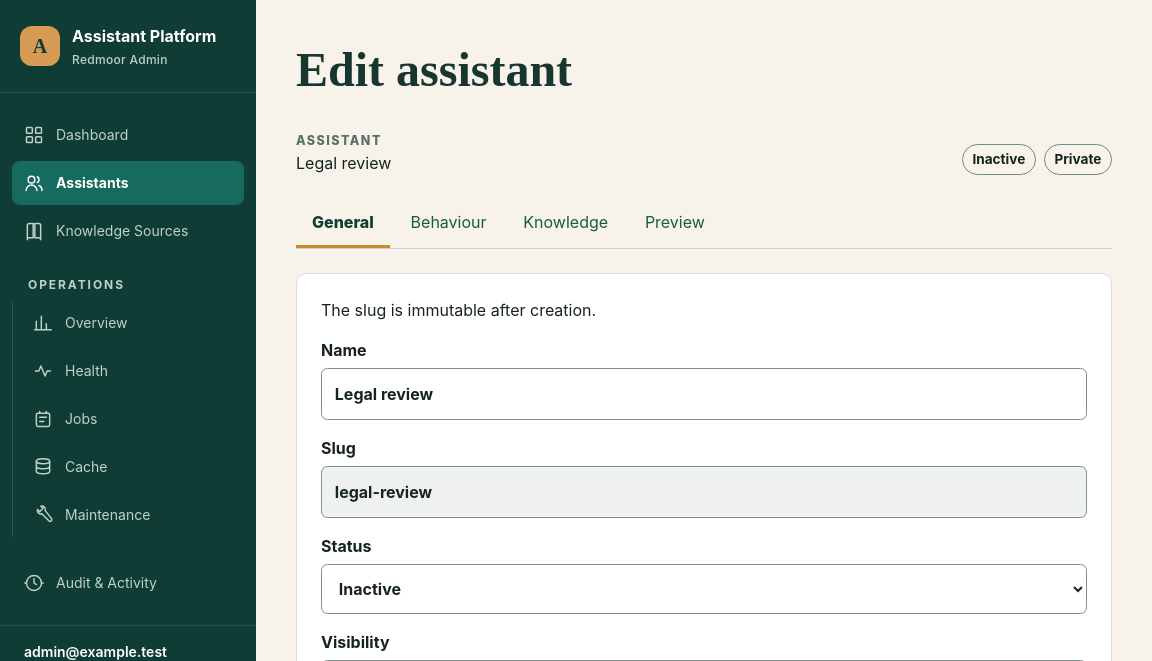
Test case: administrator application workflows › prevents duplicate updates while saving
The width and height of the screenshot is (1152, 661).
Replace the text in the field labelled "Name" with "Updated name" at {"x": 704, "y": 394}, box [321,368,1087,420]
(page scrolled)
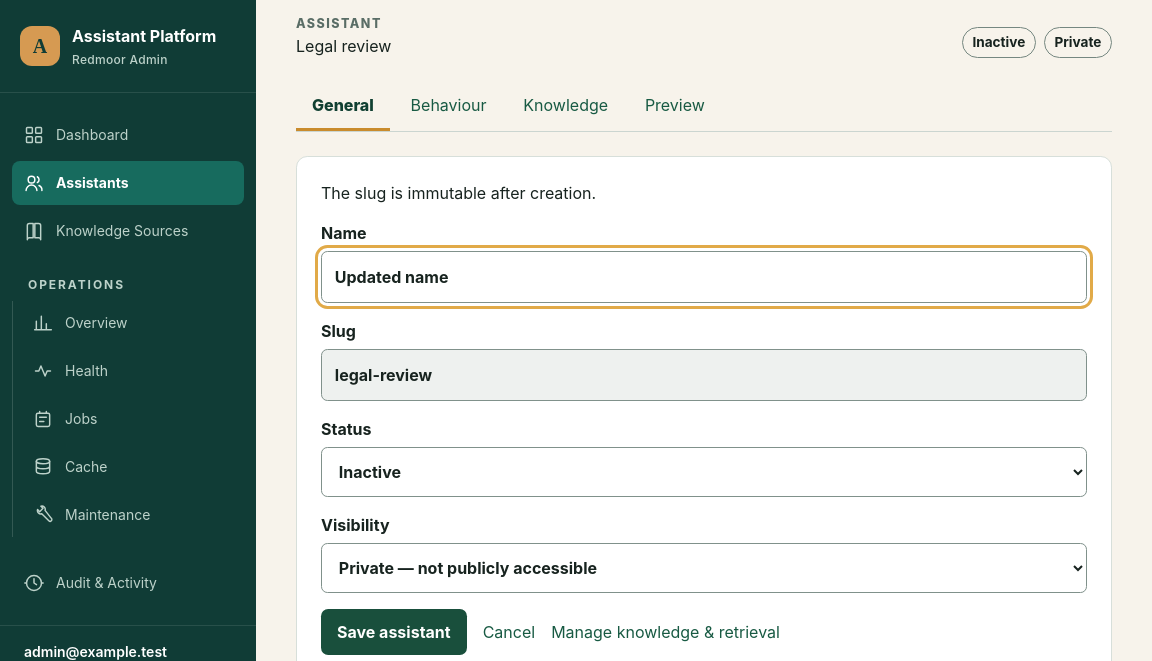
Click the button "Save assistant" at {"x": 394, "y": 632}, box [321,609,467,655]
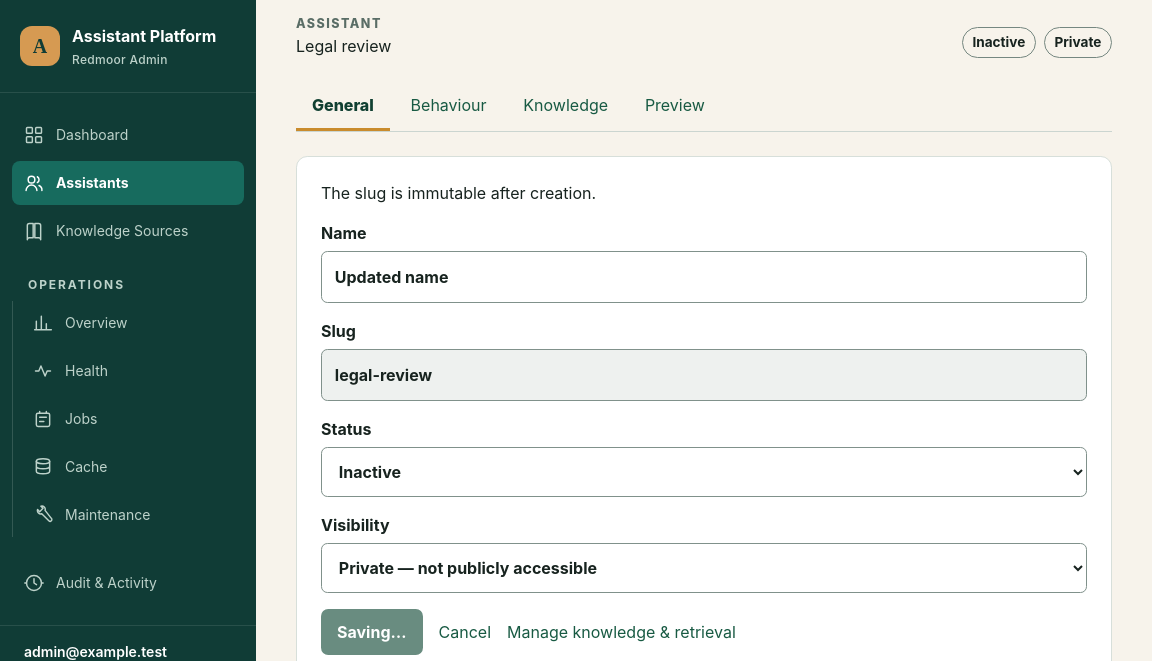
Expected: the button "Saving…" is disabled
Click the button "Saving…" at {"x": 372, "y": 632}, box [321,609,422,655]
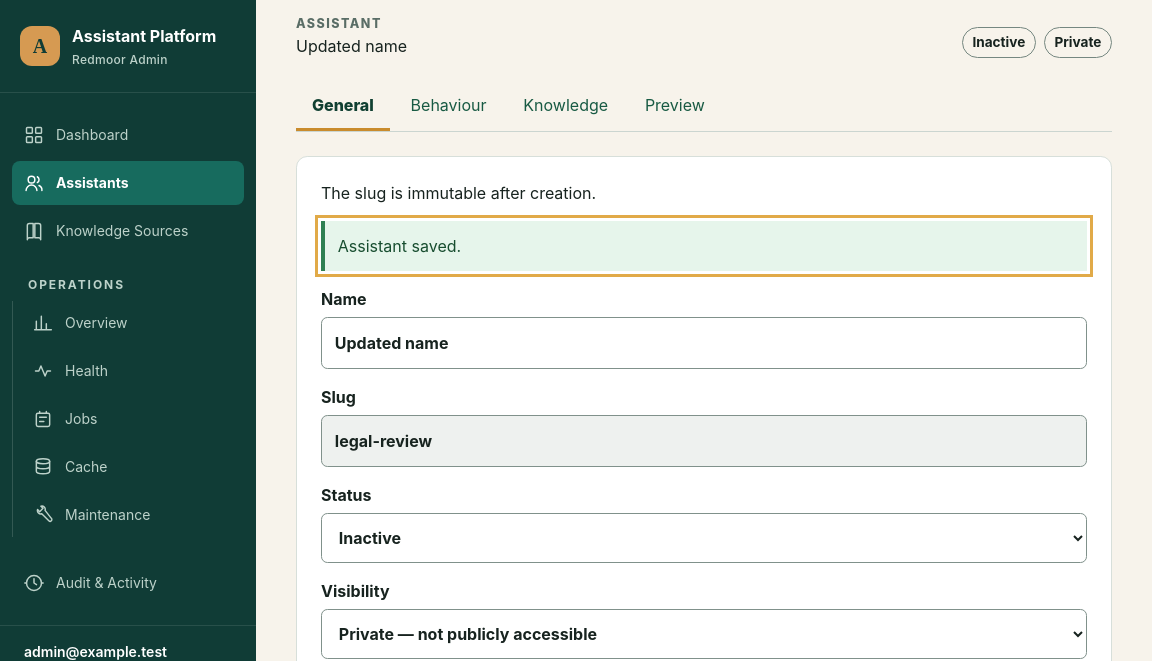
Expected: the message reads "Assistant saved.", [338,236,461,256]
